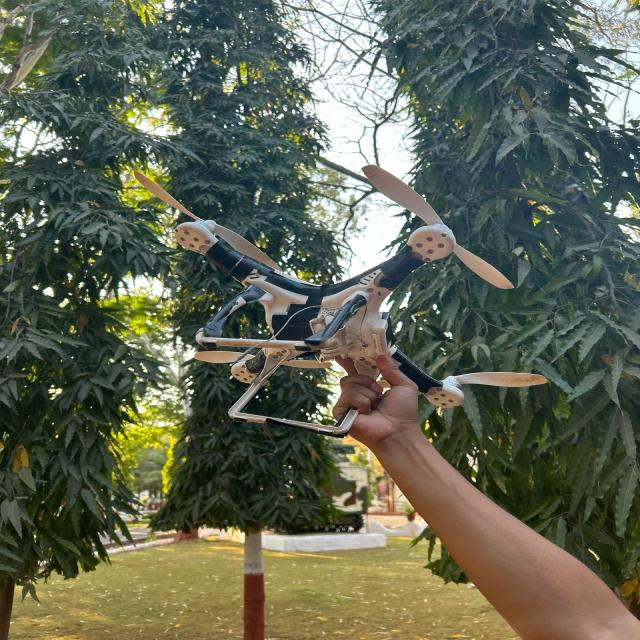drone: (78, 125, 582, 462)
